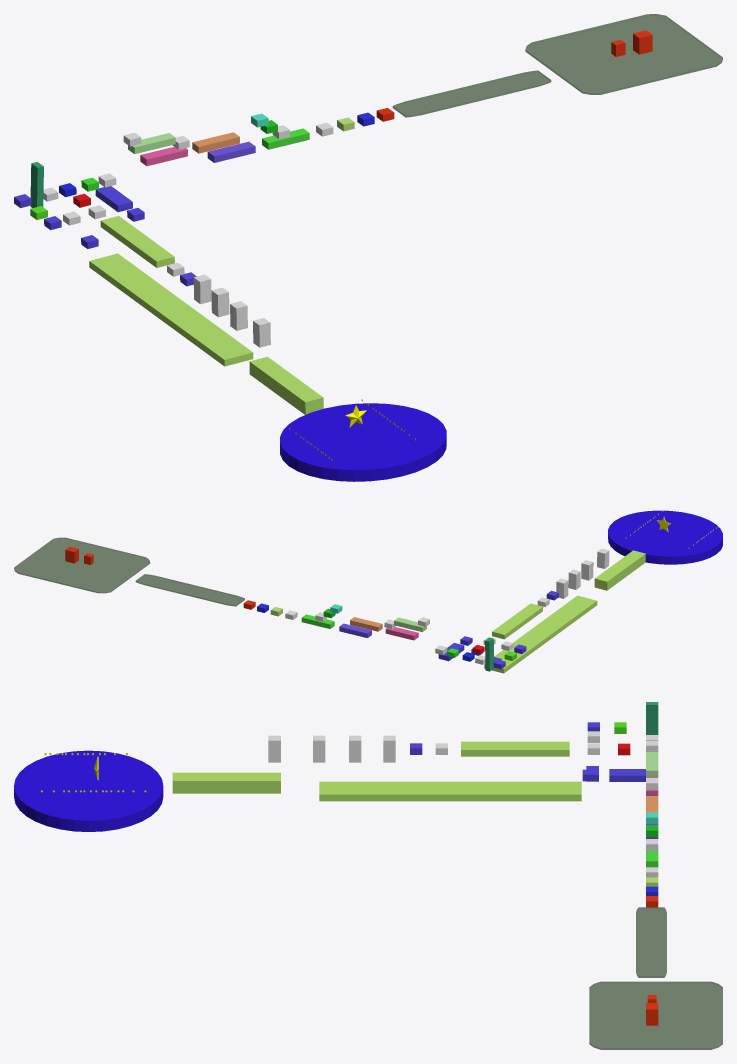
The model's file is environment26.glb.
The picture shows the model from 3 angles, top to bottom: view 1: azimuth 30°, elevation 25°; view 2: azimuth 150°, elevation 25°; view 3: azimuth 270°, elevation 25°; orthographic projection. The views are drawn at different scales.
Parts seen in each view (by area): view 1: Cylinder, Cube, Cube.038, Cube.001, Cube.035, Cube.028; view 2: Cylinder, Cube, Cube.038, Cube.001, Cube.035, Cube.028, Cube.012, Cube.021, Cube.011, Cube.013; view 3: Cylinder, Cube, Cube.038, Cube.035, Cube.001, Cube.028.
Part boxes in pixels (<box>): Cylinder: <box>280,403,446,481</box>; Cube: <box>525,14,722,94</box>; Cube.038: <box>89,253,253,366</box>; Cube.001: <box>392,70,551,117</box>; Cube.035: <box>249,356,323,414</box>; Cube.028: <box>100,216,174,267</box>; Cylinder: <box>608,510,722,564</box>; Cube: <box>14,537,150,593</box>; Cube.038: <box>484,595,597,673</box>; Cube.001: <box>135,574,244,606</box>; Cube.035: <box>594,550,645,590</box>; Cube.028: <box>492,603,543,639</box>; Cube.012: <box>350,617,382,631</box>; Cube.021: <box>485,637,494,671</box>; Cube.011: <box>339,623,371,637</box>; Cube.013: <box>385,627,418,640</box>; Cylinder: <box>14,750,163,831</box>; Cube: <box>589,981,722,1049</box>; Cube.038: <box>319,781,581,801</box>; Cube.035: <box>172,772,280,793</box>; Cube.001: <box>636,907,666,977</box>; Cube.028: <box>461,741,569,756</box>.
Size of the model in its own units: 125 by 14.66 by 114.
